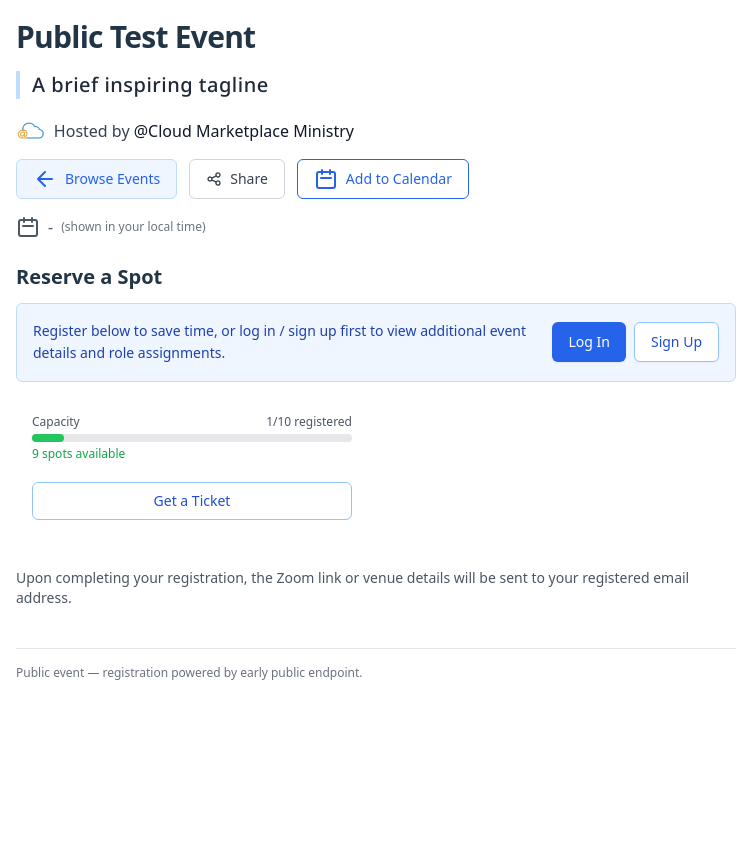
Scenario: PublicEvent registration form › shows duplicate message when API returns duplicate
Expected: the heading "Public Test Event" is shown, [16,16,255,57]
Expected: the element with test id "public-event-hosted-by" reads "Hosted by @Cloud Marketplace Ministry", [16,118,354,142]
Click the button "Get a Ticket" at (192, 501), box [32,482,352,520]
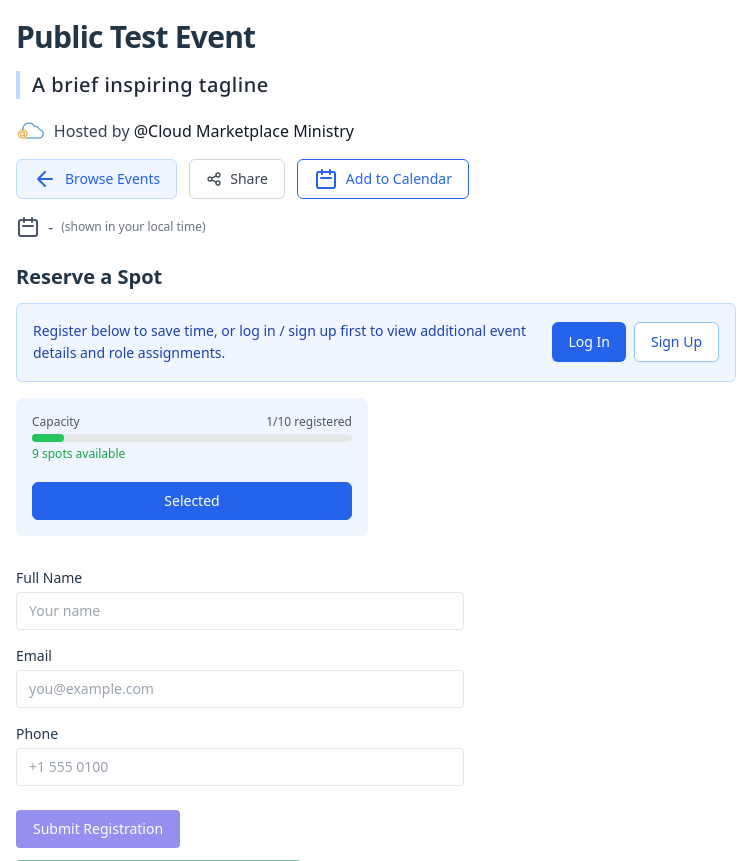
Type "Jane Tester" into the field labelled "Full Name" at (240, 611), box [16,592,464,630]
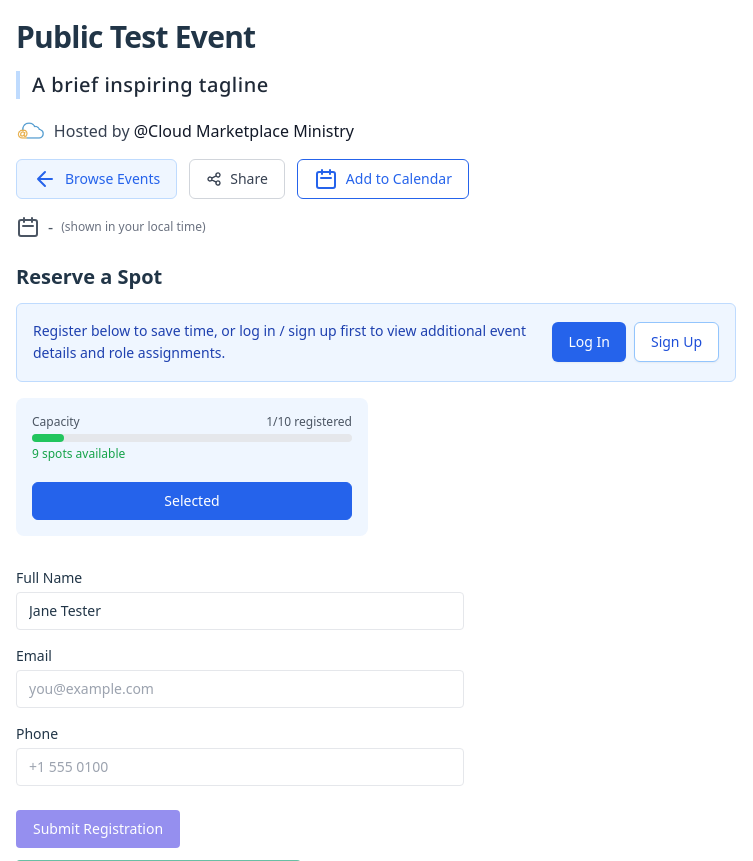
Type "jane@example.com" into the field labelled "Email" at (240, 689), box [16,670,464,708]
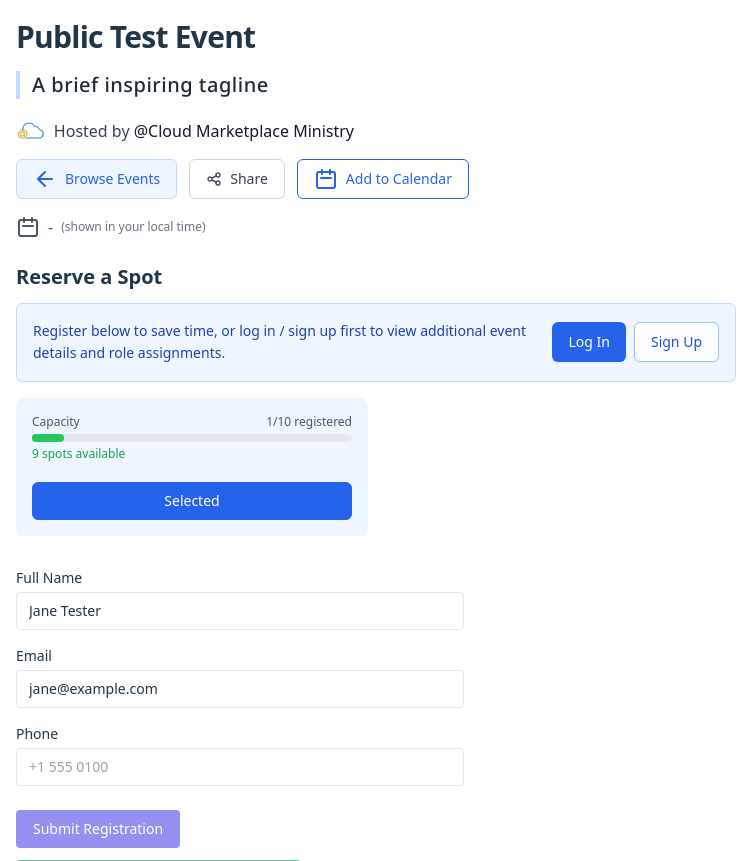
Type "+1 555 0200" into the field labelled "Phone" at (240, 767), box [16,748,464,786]
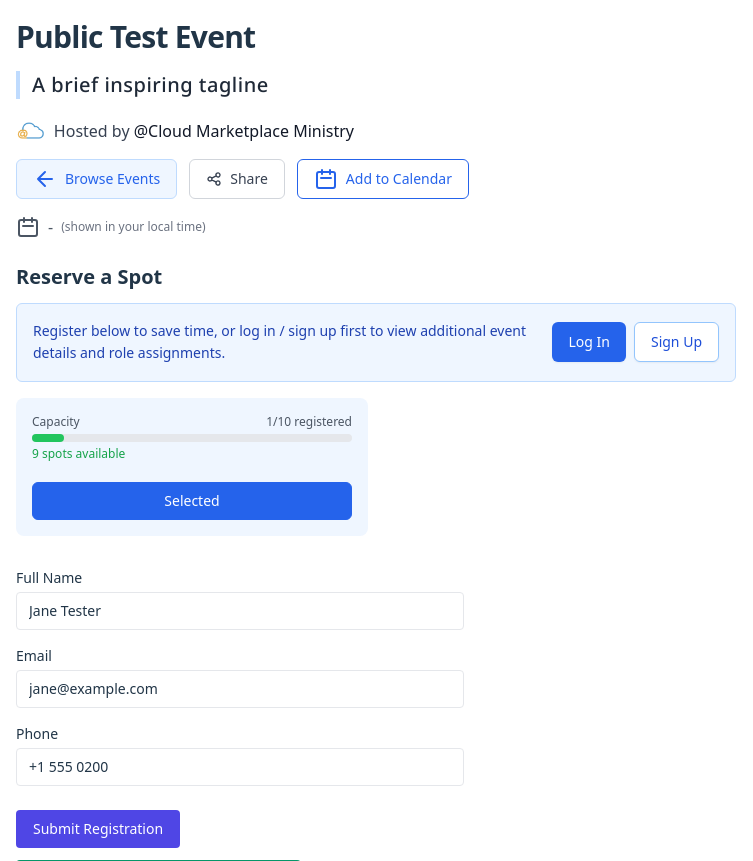
Click the button "Submit Registration" at (98, 829), box [16,810,180,848]
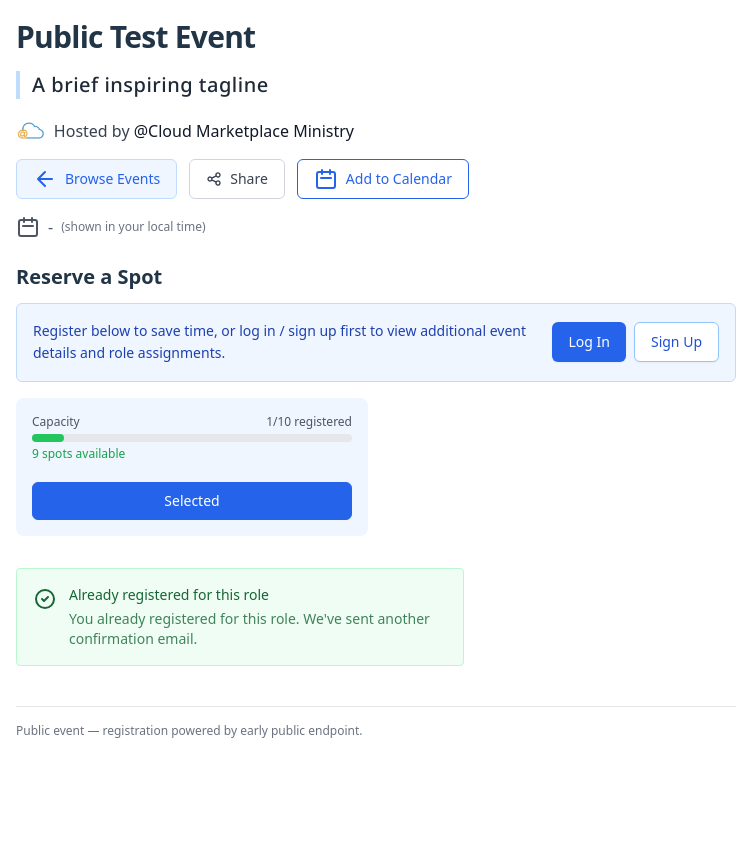
Expected: the text "Already registered for this role" is shown, [69,585,269,604]
Expected: the text "You already registered for this role" is shown, [69,609,430,648]
